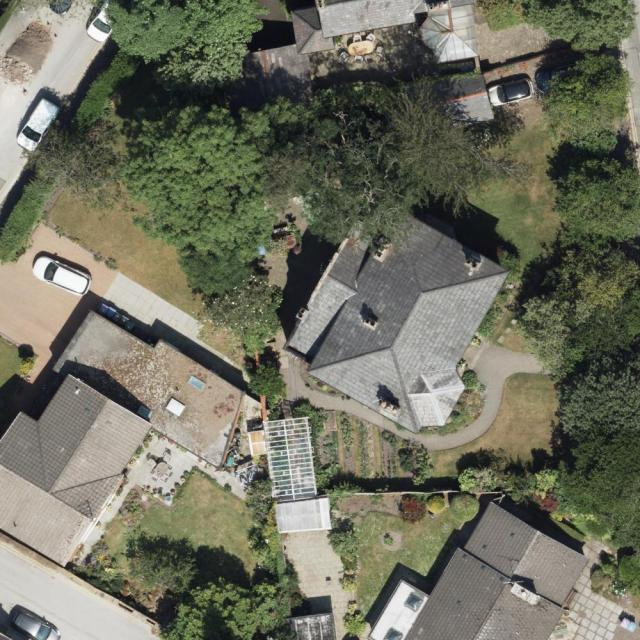roof: (0, 307, 247, 568), (285, 197, 509, 433), (369, 502, 590, 639), (289, 0, 477, 61), (436, 70, 496, 133)
skylight: (163, 395, 189, 419), (186, 372, 207, 392), (383, 626, 405, 640), (404, 595, 423, 611), (137, 404, 153, 421)
